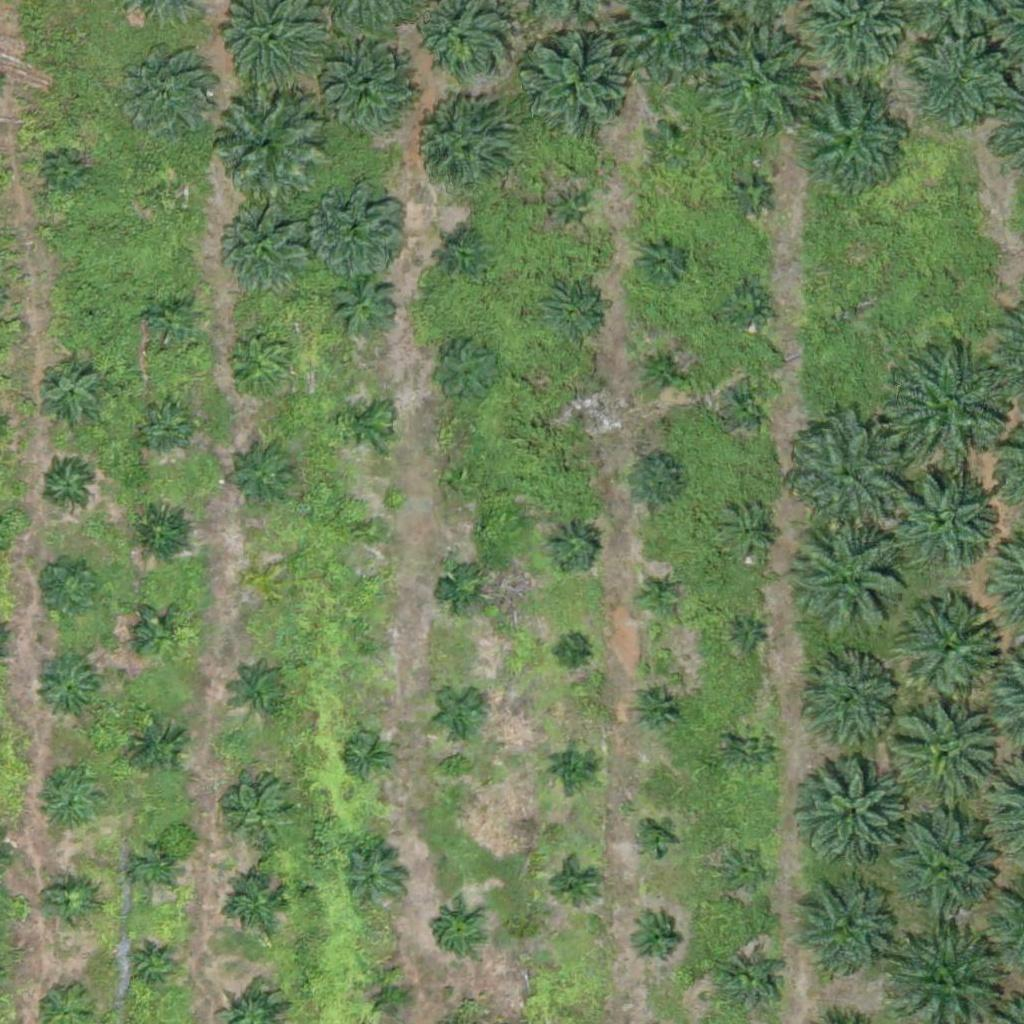Kelapa_Sawit: (890, 345, 1015, 471), (903, 27, 1016, 141), (206, 86, 319, 199), (522, 32, 635, 145), (794, 84, 907, 197), (888, 815, 1000, 929), (891, 698, 1003, 812), (701, 32, 813, 145), (791, 418, 903, 531), (800, 524, 912, 637), (116, 42, 216, 143), (317, 42, 417, 143), (407, 100, 507, 201), (893, 468, 993, 569), (899, 596, 999, 697), (312, 177, 412, 278), (804, 762, 904, 862), (792, 888, 892, 988), (809, 658, 896, 746), (225, 210, 312, 298), (28, 552, 103, 628), (426, 333, 501, 408), (37, 773, 100, 836), (343, 846, 406, 909), (231, 445, 294, 508), (130, 500, 193, 563), (140, 290, 203, 353), (624, 450, 687, 513), (36, 657, 98, 720), (723, 953, 785, 1016), (126, 717, 188, 780), (226, 874, 288, 937), (228, 784, 291, 846), (234, 662, 296, 725), (37, 359, 99, 422), (542, 281, 604, 344), (333, 272, 395, 335), (231, 335, 293, 398), (546, 859, 596, 910), (630, 913, 680, 964), (723, 507, 773, 558), (339, 395, 389, 446), (546, 520, 596, 571), (639, 342, 689, 393), (364, 972, 414, 1023), (44, 879, 94, 929), (728, 725, 778, 775), (548, 742, 598, 792), (436, 687, 486, 737), (136, 609, 186, 659), (343, 730, 393, 780), (431, 905, 481, 955), (44, 461, 94, 511), (138, 402, 188, 452), (637, 233, 687, 283), (438, 567, 488, 617), (723, 380, 773, 430), (726, 170, 776, 220), (722, 281, 772, 331), (542, 185, 592, 235), (645, 116, 695, 166), (634, 570, 684, 620), (717, 844, 767, 894), (633, 684, 683, 734), (125, 940, 174, 991), (446, 463, 484, 501), (637, 819, 675, 857), (444, 239, 482, 276), (152, 177, 190, 214), (135, 849, 172, 887), (48, 157, 85, 195), (569, 396, 594, 421), (735, 625, 760, 650), (558, 639, 583, 664), (357, 632, 382, 657), (357, 516, 382, 541), (252, 570, 277, 595), (79, 307, 104, 332)
